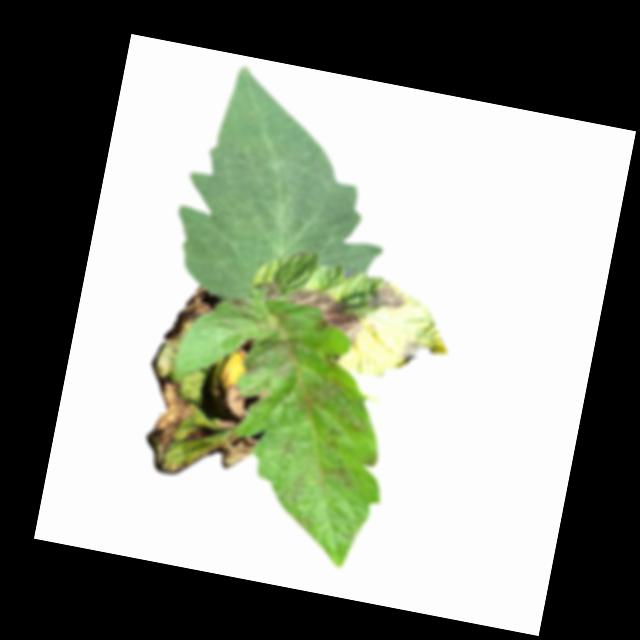Late_blight: (224, 302, 307, 385), (138, 375, 202, 479), (279, 285, 367, 346), (161, 279, 224, 349), (289, 367, 345, 422), (209, 374, 254, 430), (214, 426, 259, 474), (398, 335, 440, 369), (367, 281, 409, 314), (317, 460, 360, 491), (257, 275, 285, 304), (184, 424, 212, 447), (254, 386, 271, 400)
